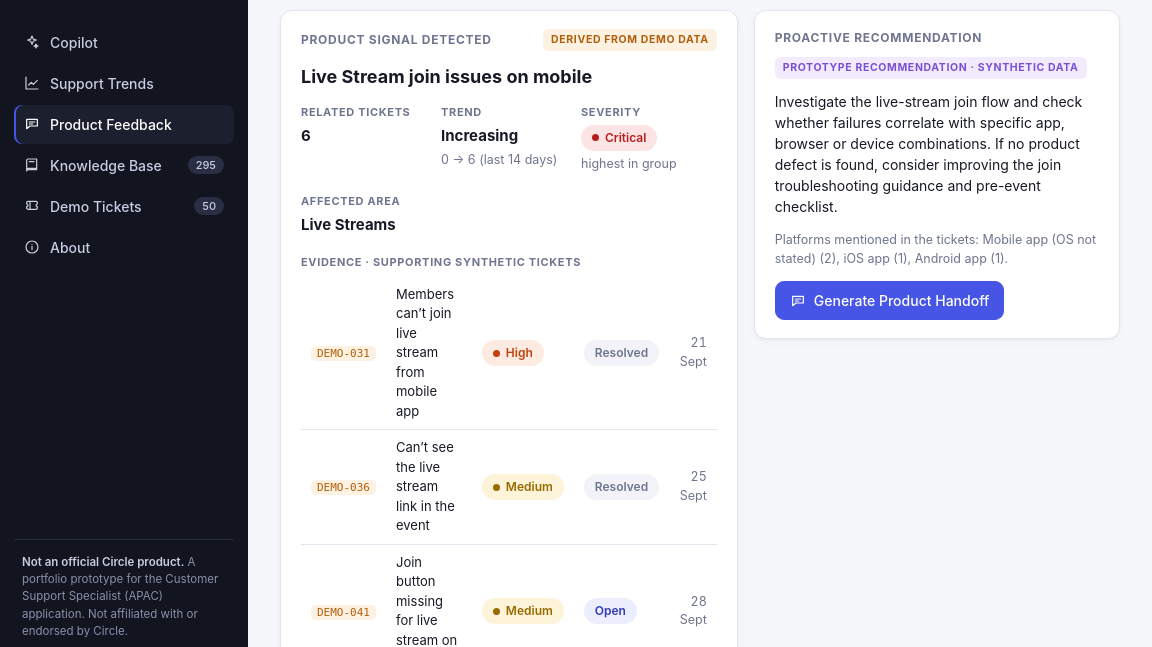
it: Support Trends → Product Feedback workflow › opens a trends opportunity as a product signal, generates a handoff and copies it
Later steps or results of the test are not shown.
(page scrolled)
Expected: the heading "Live Stream join issues on mobile" is shown, top-left (301, 66), bottom-right (592, 87)
Expected: the text with test id "signal-count" reads "6", top-left (301, 126), bottom-right (311, 144)
Generate the handoff
Click the button with test id "generate-handoff": coordinates (890, 300) top-left (775, 281), bottom-right (1004, 320)
(page scrolled)
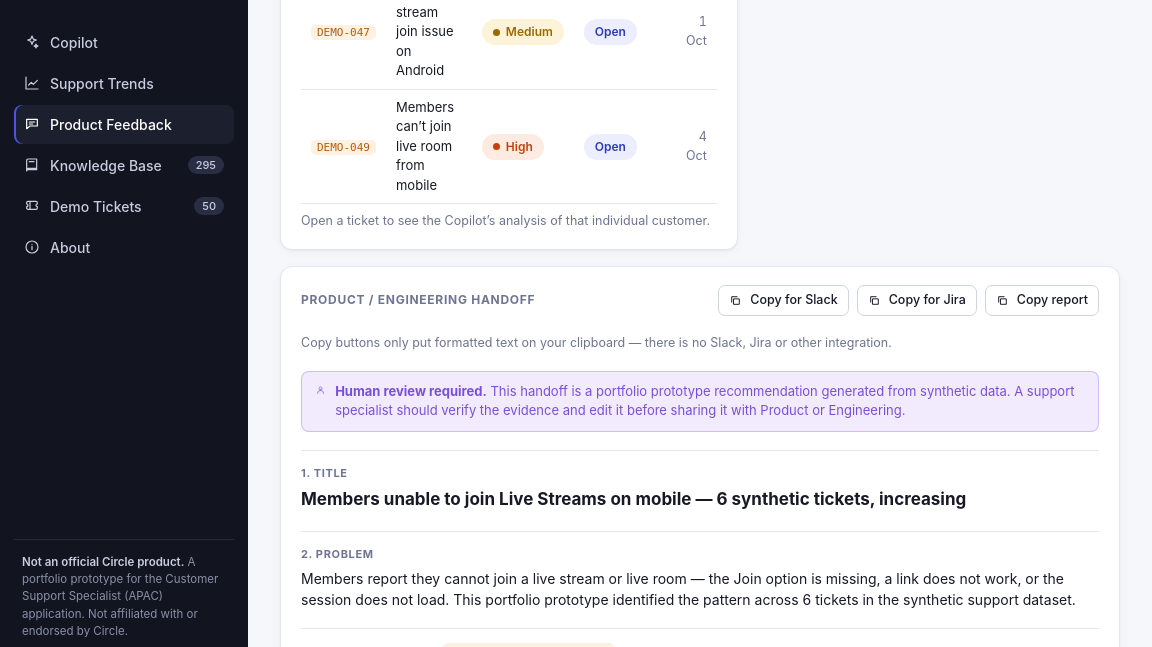
Expected: the text "Human review required." is shown, top-left (335, 382), bottom-right (487, 398)
Expected: the text "1. Title" is shown, top-left (301, 464), bottom-right (348, 481)
Expected: the text "2. Problem" is shown, top-left (301, 546), bottom-right (374, 562)
